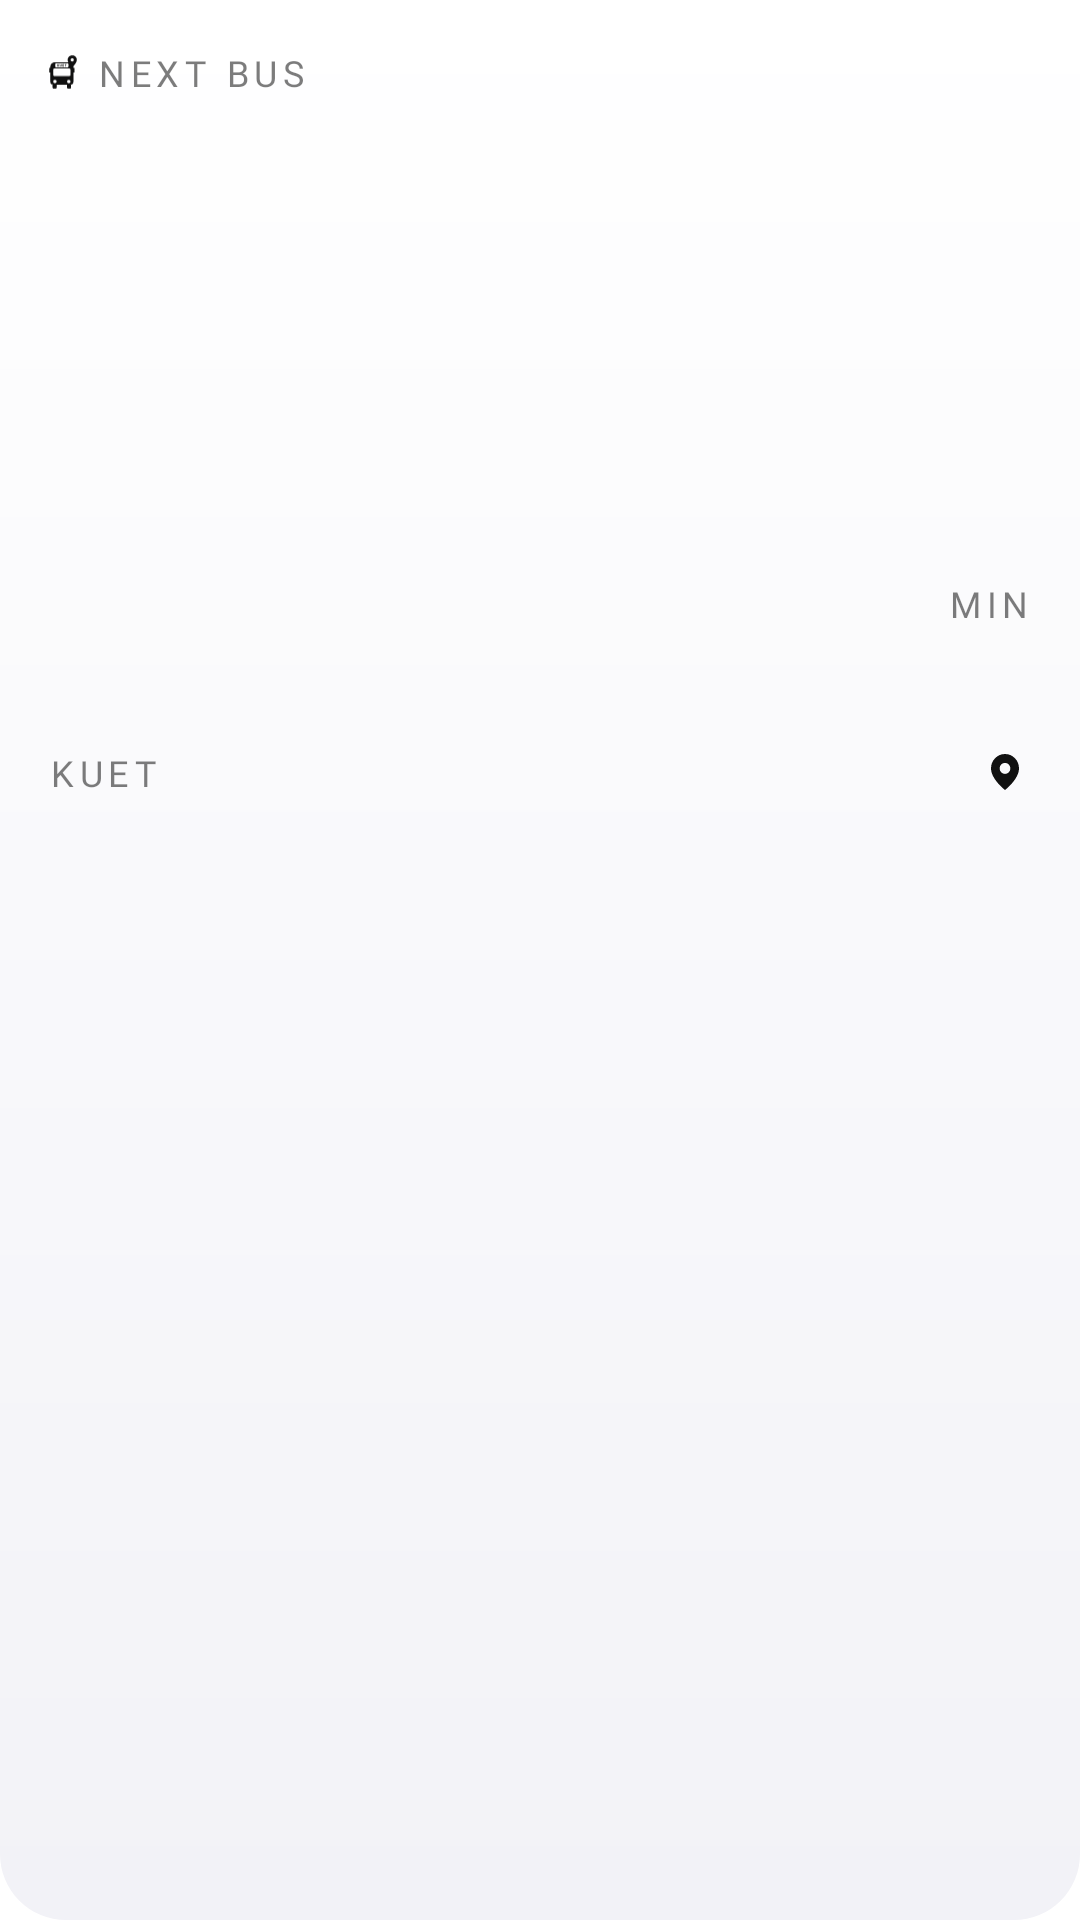

Named icons in this screenshot (1080*1920) and their bounding boxes, bbox=[x1, y1, x2, y2]:
widget pin: bbox=[991, 754, 1019, 790]
